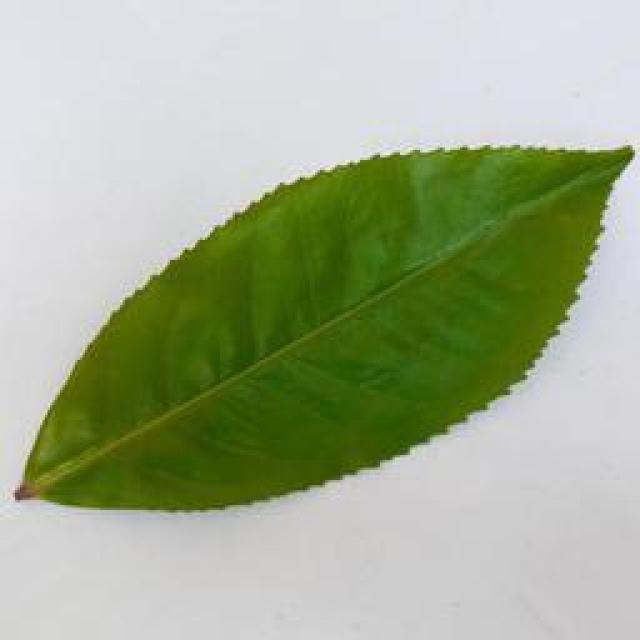Healthy: (7, 126, 640, 520)
